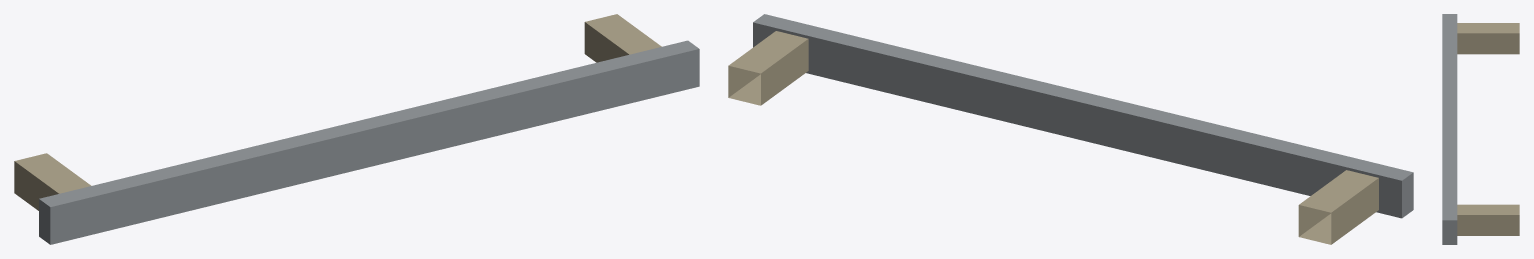
File: Towel_Rack.fbx
3 views of the same model, side by side, from view 1: azimuth 30°, elevation 25°; view 2: azimuth 150°, elevation 25°; view 3: azimuth 270°, elevation 25° (orthographic). The views are drawn at different scales.
Visible parts, largest first — view 1: polySurface1555; view 2: polySurface1555; view 3: polySurface1555.
Boxes of the visible parts, left/top/right/bottom form: polySurface1555: left=14, top=14, right=699, bottom=244; polySurface1555: left=728, top=14, right=1413, bottom=244; polySurface1555: left=1442, top=14, right=1519, bottom=244.
Size of the model in its own units: 1.37 by 0.0759 by 0.2155.
